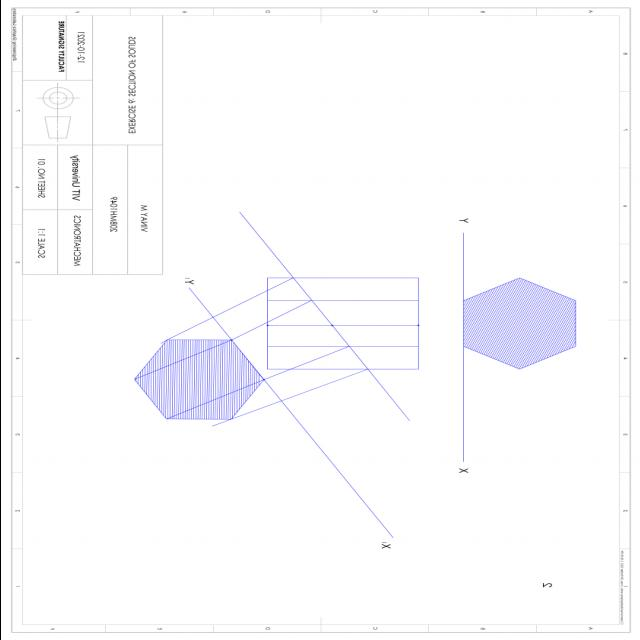Drawings: (132, 180, 428, 574), (440, 184, 590, 508)
